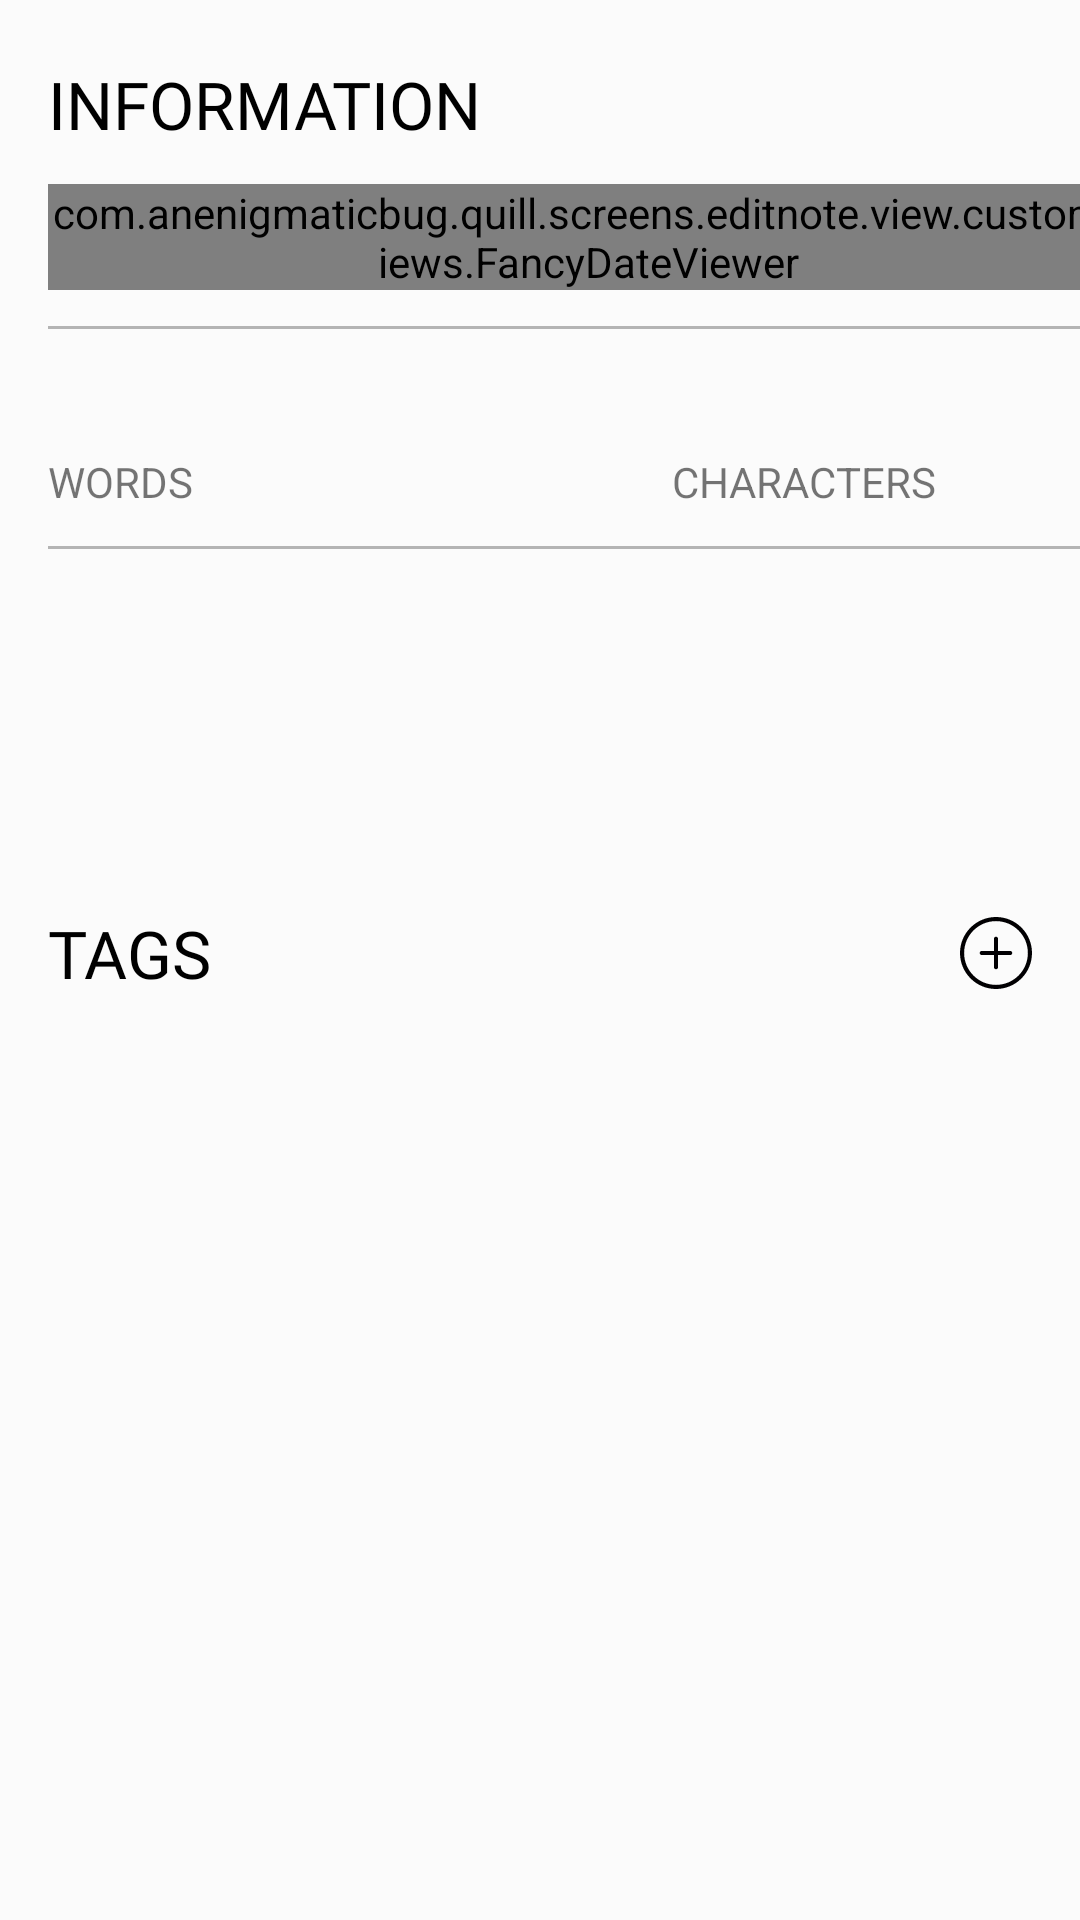

Screen size 1080*1920. Icon name, then its center in pixels as [x,y]:
add: [996,953]
